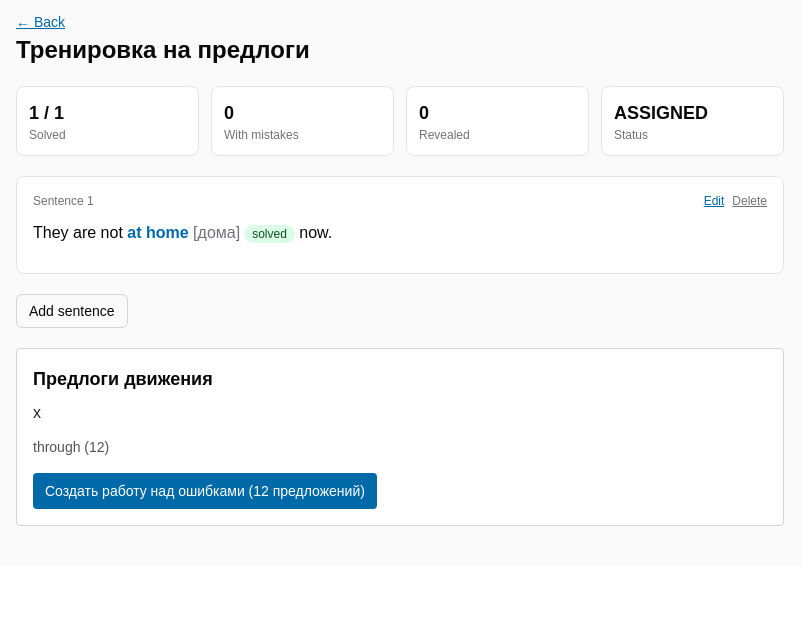
Test: progress page — gap analysis › clears the notice on reload so it cannot sit alongside a fresh status banner
This screenshot has width=801, height=637.
Click the button "Создать работу над ошибками (12 предложений)" at (205, 491), box 33,473 -> 377,509
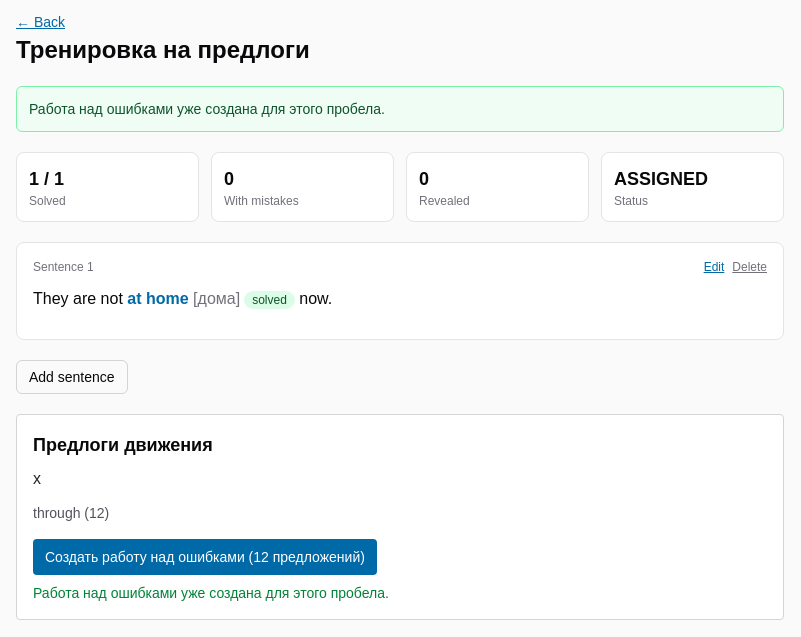
Click the button with aria-label "delete sentence 1" at (750, 267), box 732,259 -> 767,275
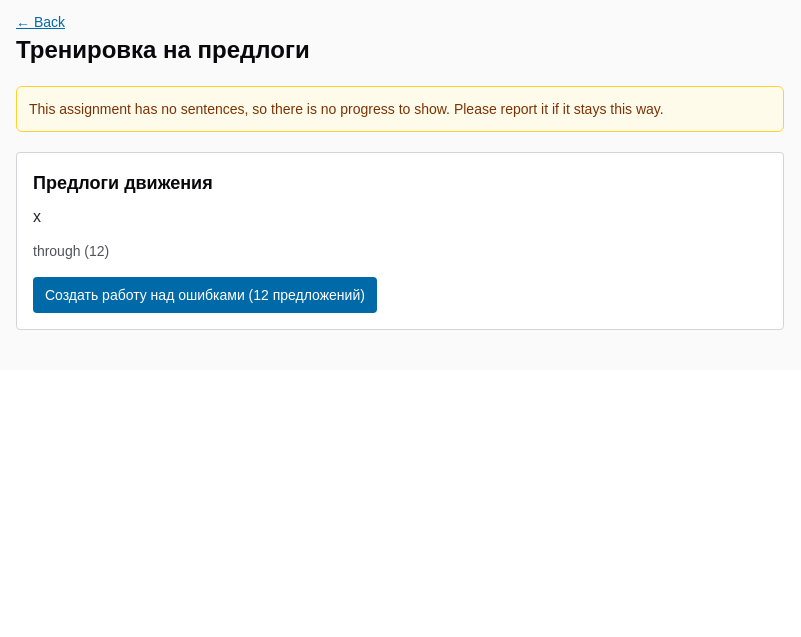
Expected: the text "no sentences" is shown, 29,101 -> 664,117
Expected: the number of messages is 1, 16,86 -> 784,132
